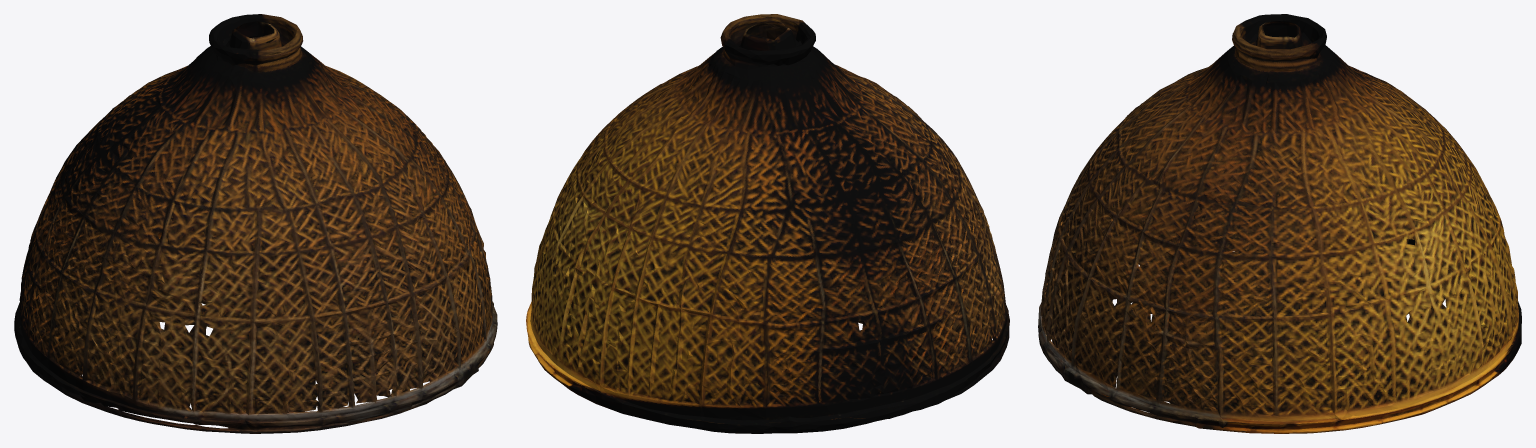
File: woven-rattan-lampshade-vintage.jpeg.glb
3 views of the same model, side by side, from view 1: azimuth 30°, elevation 25°; view 2: azimuth 150°, elevation 25°; view 3: azimuth 270°, elevation 25° (orthographic).
Parts seen in each view (by area): view 1: world; view 2: world; view 3: world.
Part boxes in pixels (x1,y1,x2,y2): world: [14, 14, 497, 433]; world: [526, 14, 1009, 433]; world: [1038, 14, 1521, 433].
Bounding box in the file's own units: 0.9994 × 0.6985 × 0.9996.
Materials: 1 (1 with a texture image).
